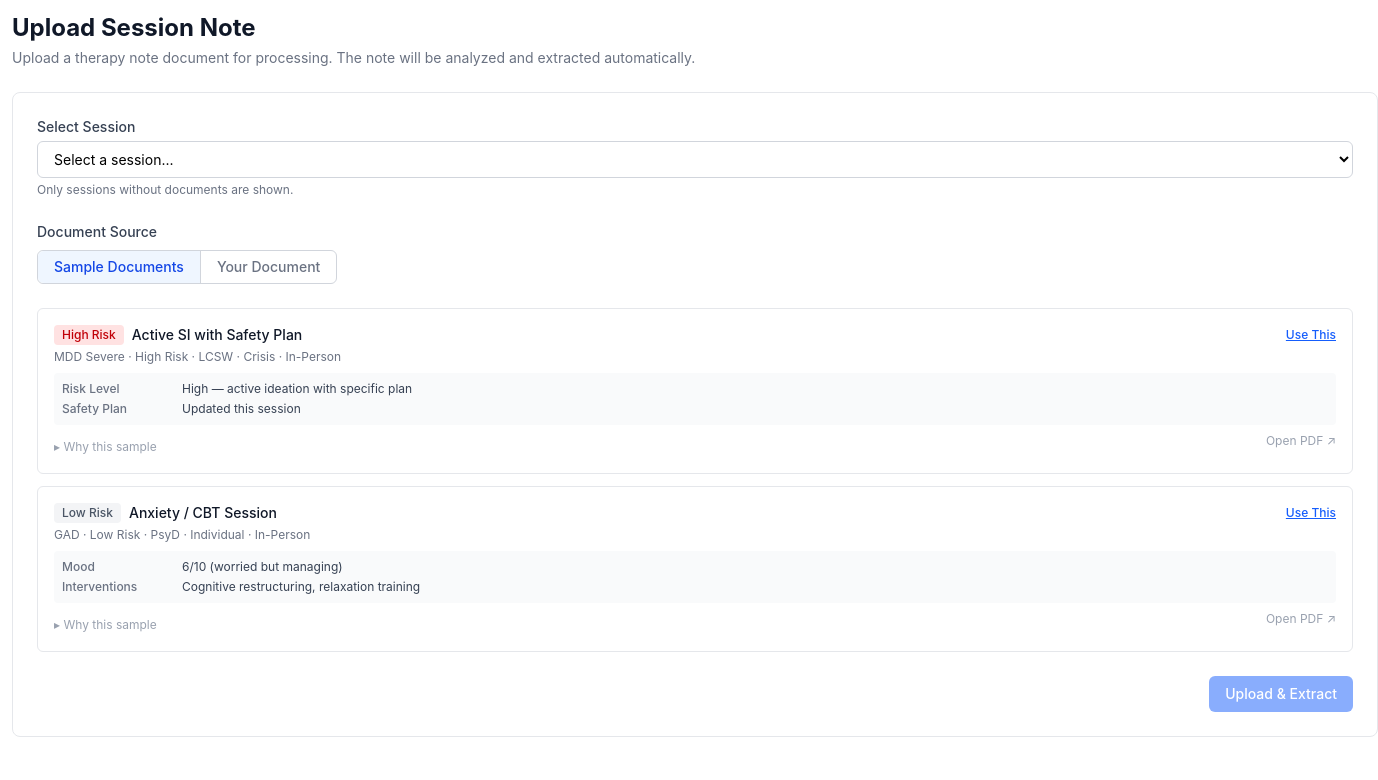
Upload page › selects sample document via Use This button
Check: the text "Anxiety / CBT Session" is shown, box [129,504,277,521]
Click the button "Use This" in the row of "Anxiety / CBT Session". click: point(1311, 513)
box: [1286,505,1336,521]
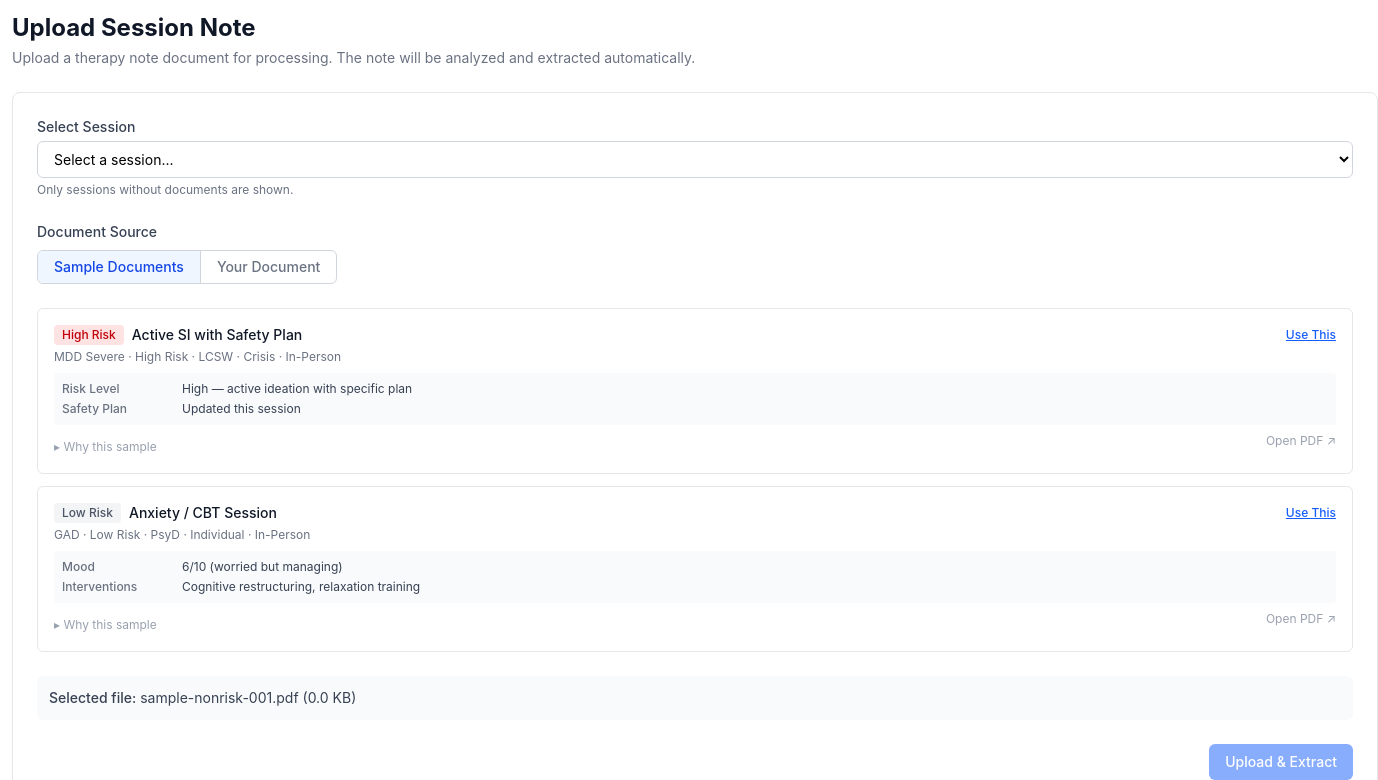
Check: the text "Selected file:" is shown, box [49,689,136,706]
